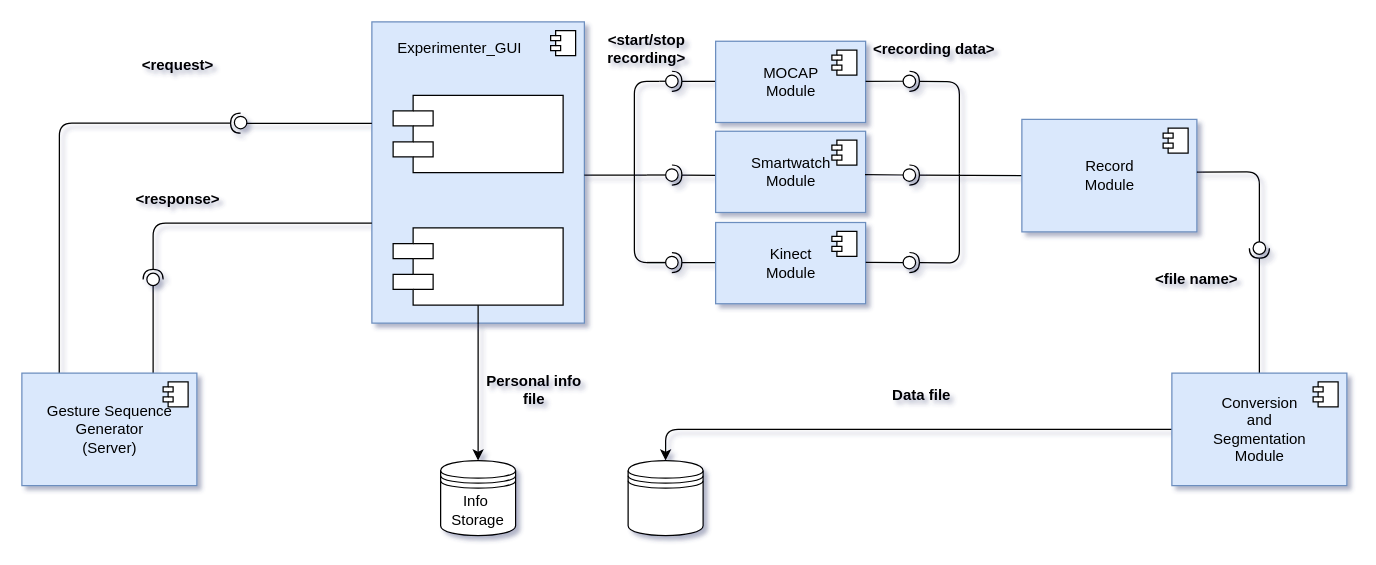
This 1376x565 diagram has some shape labels left out. The centre of each missing label's shape, as x and y in pixels:
Communication with user UI: the point at 477,266
Configuration UI: the point at 477,133
Data Storage: the point at 665,497
